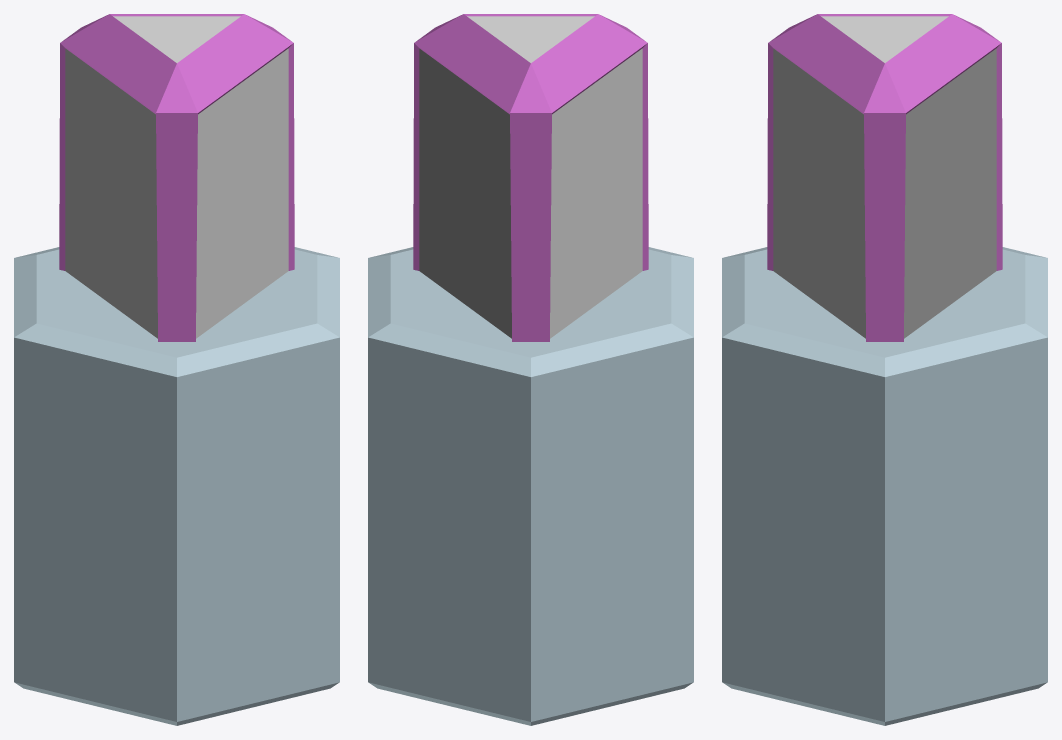
Rendered from TriangleMirrorTile.fbx.
3 views of the same model, side by side, from view 1: azimuth 30°, elevation 25°; view 2: azimuth 150°, elevation 25°; view 3: azimuth 270°, elevation 25° (orthographic).
Parts seen in each view (by area): view 1: Hex, pCylinder1; view 2: Hex, pCylinder1; view 3: Hex, pCylinder1.
Boxes of the visible parts, bbox=[...] form: Hex: bbox=[14, 247, 339, 725]; pCylinder1: bbox=[59, 14, 294, 341]; Hex: bbox=[368, 247, 693, 725]; pCylinder1: bbox=[413, 14, 648, 341]; Hex: bbox=[722, 247, 1047, 725]; pCylinder1: bbox=[767, 14, 1002, 341].
Bounding box in the file's own units: 10 × 18.2 × 8.66.
